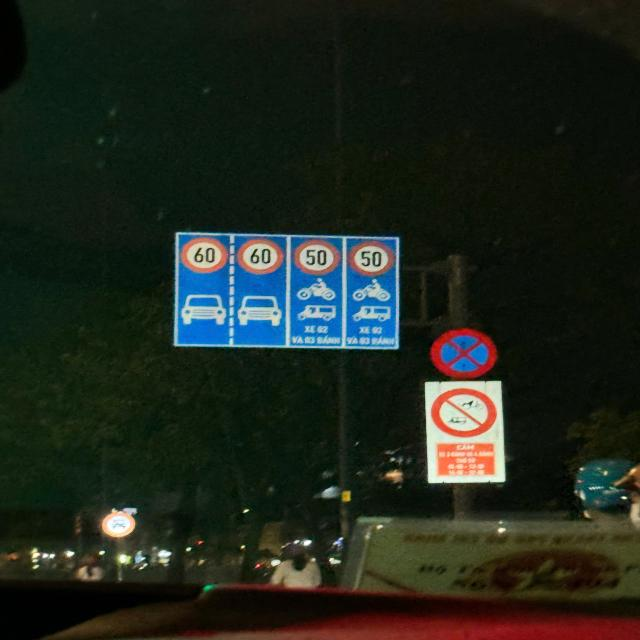Bien bao cam dung xe va do xe: (429, 322, 502, 382)
Bien bao toc do toi da cho phep: (230, 234, 286, 278), (290, 236, 342, 282), (349, 235, 403, 278), (178, 233, 230, 277)
